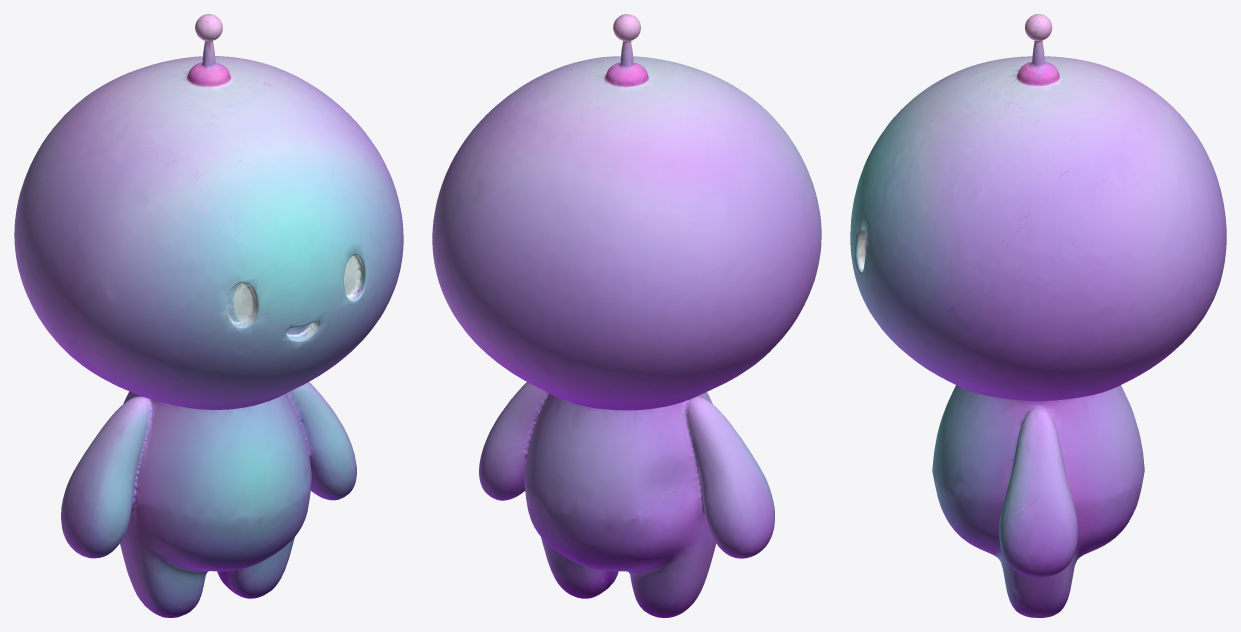
Rendered from aria-3d.glb.
3 renders of one model, left to right at view 1: azimuth 30°, elevation 25°; view 2: azimuth 150°, elevation 25°; view 3: azimuth 270°, elevation 25°, orthographic.
Parts seen in each view (by area): view 1: Mesh_0; view 2: Mesh_0; view 3: Mesh_0.
Part boxes in pixels (x1,y1,x2,y2): Mesh_0: [14, 14, 403, 617]; Mesh_0: [432, 14, 821, 617]; Mesh_0: [850, 14, 1226, 617].
Bounding box in the file's own units: 1.12 × 1.91 × 1.12.
1 material, 1 textured.
